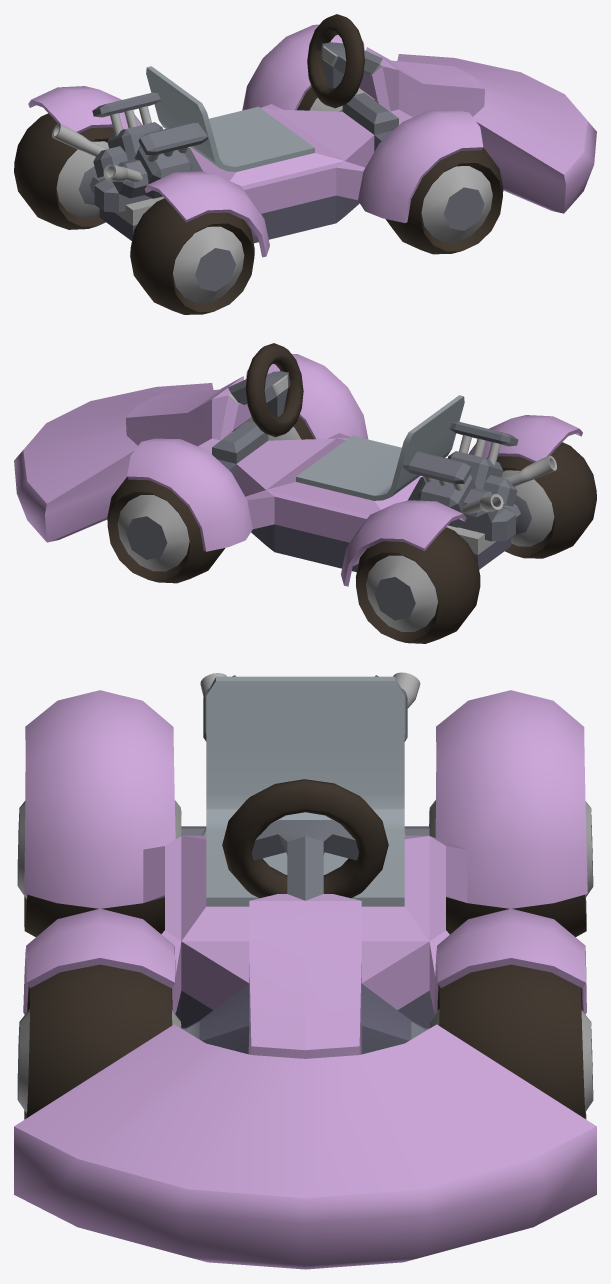
File: Kart_005.fbx
3 views of the same model, one above another, from view 1: azimuth 30°, elevation 25°; view 2: azimuth 150°, elevation 25°; view 3: azimuth 270°, elevation 25° (orthographic). The views are drawn at different scales.
Visible parts, largest first — view 1: Kart_002; view 2: Kart_002; view 3: Kart_002.
Boxes of the visible parts, box(x1,y1,x2,y2) form: Kart_002: box(14, 14, 596, 314); Kart_002: box(14, 343, 596, 643); Kart_002: box(14, 672, 596, 1269).
Size of the model in its own units: 12.39 by 4.76 by 7.2.
